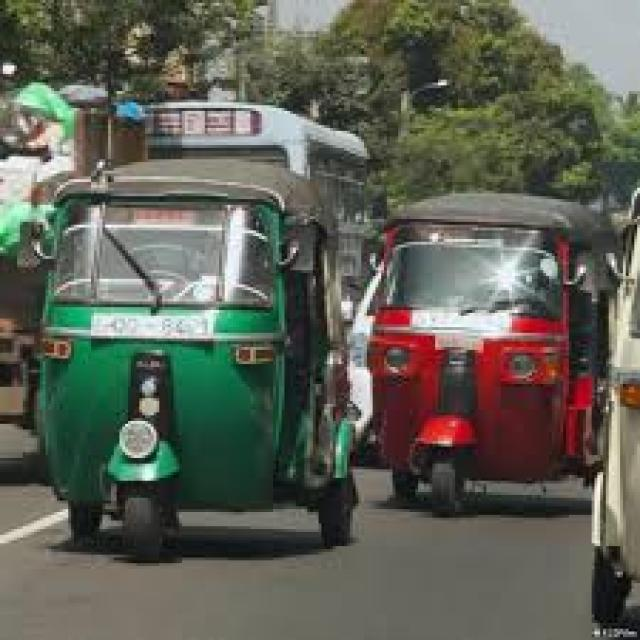bus: (148, 100, 364, 290)
three wheeler: (40, 159, 353, 558), (367, 193, 589, 512), (592, 342, 637, 640), (609, 188, 637, 339)
